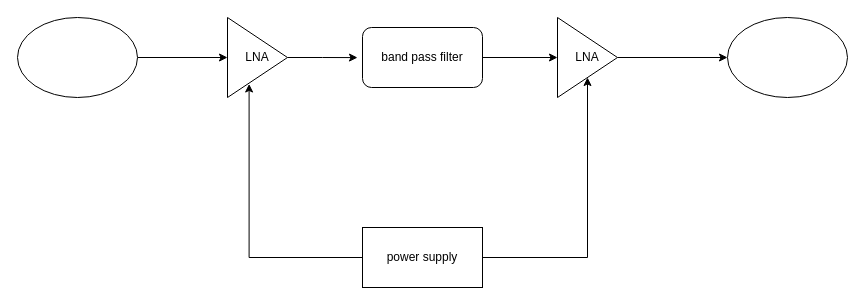
The diagram is 865 pixels wide and 305 high, and some of its shapes have lost their labels. Here are the shapes that lost their labels. From the top down, the centre of each, then its label:
At [77,57]: "sma input".
At [787,57]: "sma output".
